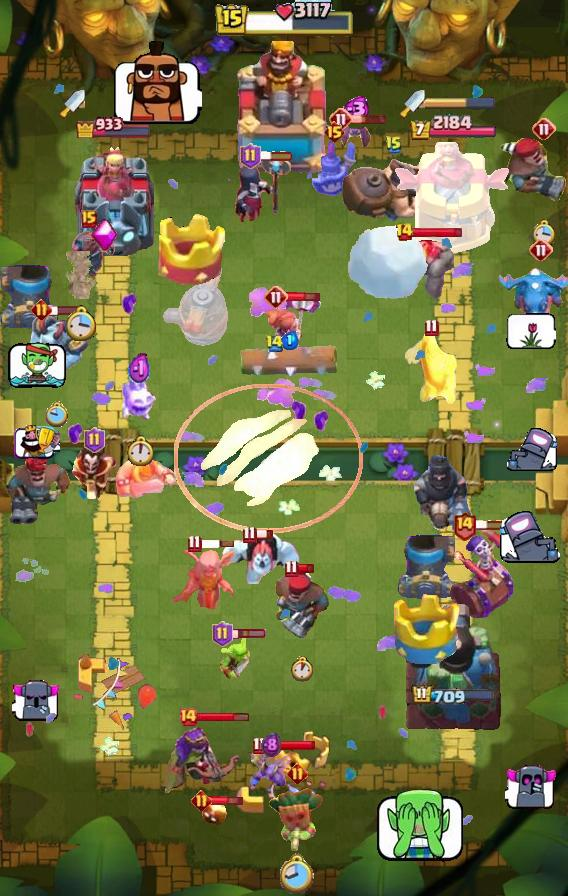bar: (412, 226, 463, 239), (264, 739, 316, 751), (197, 712, 250, 723), (209, 794, 244, 807), (286, 290, 321, 303), (230, 628, 267, 640), (351, 113, 388, 125), (474, 519, 510, 531), (49, 304, 85, 316), (258, 150, 294, 162), (199, 539, 235, 549), (254, 528, 274, 540), (296, 563, 315, 574)
bar-level: (452, 510, 477, 541), (264, 285, 288, 309), (529, 238, 553, 262), (532, 117, 556, 141), (329, 107, 353, 131), (323, 120, 346, 144), (212, 621, 233, 647), (84, 427, 105, 453), (240, 143, 261, 169), (191, 790, 212, 811), (287, 763, 308, 784), (31, 299, 52, 320), (178, 707, 198, 727), (395, 222, 414, 242), (265, 334, 284, 353), (385, 135, 403, 155), (81, 210, 97, 228), (252, 736, 267, 755), (284, 559, 299, 578), (187, 534, 202, 553), (242, 525, 257, 544), (424, 318, 439, 337)
bat: (338, 123, 372, 151)
cannoneer-tower: (403, 601, 503, 731)
clock: (280, 853, 315, 896), (65, 305, 97, 341), (126, 435, 153, 466), (290, 656, 315, 682), (532, 219, 556, 246), (46, 401, 69, 427)
dagger-duchess-tower: (394, 142, 512, 256), (70, 142, 158, 256)
dagger-duchess-tower-bar: (425, 97, 495, 111)
dart-goblin: (267, 786, 327, 854)
dirt: (62, 251, 100, 299)
electro-dragon: (496, 265, 568, 327)
electro-wizard: (68, 445, 120, 499)
elite-barbarian: (114, 452, 176, 500)
elixir: (339, 96, 371, 122), (128, 352, 151, 387), (261, 732, 281, 758), (281, 331, 299, 350)
emote: (111, 39, 202, 126), (371, 788, 467, 864), (500, 511, 562, 565), (7, 342, 66, 389), (505, 763, 558, 810), (505, 428, 557, 473), (12, 679, 61, 723), (506, 313, 556, 349), (13, 424, 60, 460)
evolution-symbol: (91, 219, 119, 253)
fire-spirit: (201, 797, 229, 827)
goblin: (219, 637, 252, 680)
golemite: (380, 236, 458, 300)
guard: (310, 141, 358, 199)
hunter: (3, 449, 73, 527), (498, 135, 568, 203), (272, 570, 332, 642)
ice-spirit-evolution: (119, 371, 159, 423)
king-tower: (228, 41, 340, 181)
king-tower-bar: (213, 0, 355, 40)
knight: (405, 332, 457, 408)
mega-minion: (25, 311, 89, 377)
mini-pekka: (61, 225, 117, 281)
minion: (249, 748, 293, 794)
mortar: (396, 535, 456, 599), (0, 265, 60, 329)
night-witch: (233, 153, 293, 227)
the-log: (239, 344, 341, 378)
tower-bar: (409, 114, 498, 142), (411, 684, 496, 707), (75, 114, 153, 138)
valkyrie-evolution: (266, 293, 323, 372)
